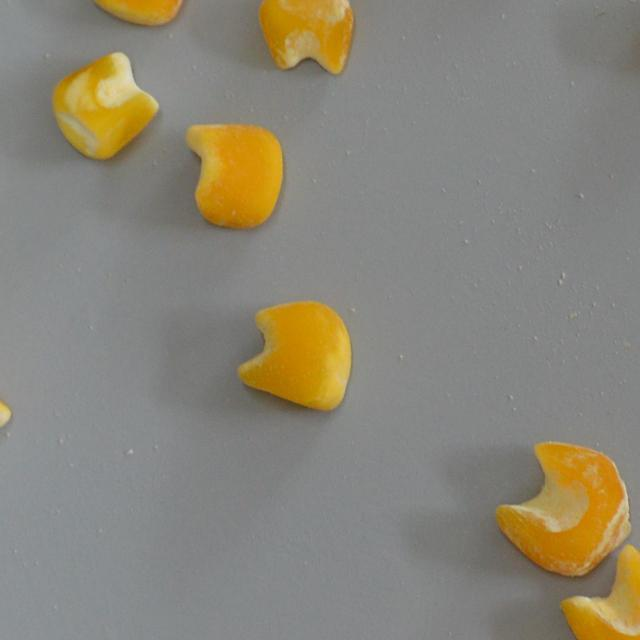no_canjicado: (235, 301, 351, 412), (48, 50, 158, 160), (183, 122, 283, 229), (560, 540, 640, 640)
pelicula: (494, 436, 631, 578), (258, 0, 353, 74), (86, 0, 198, 26), (0, 366, 12, 478)
